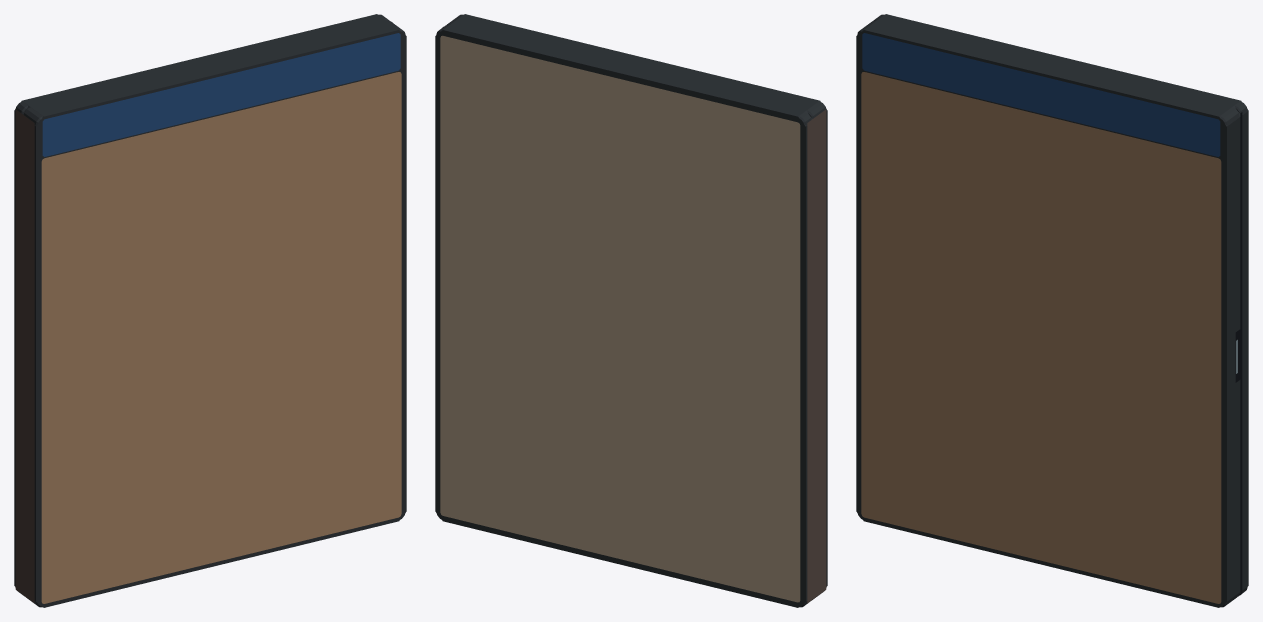
The model's file is game.glb.
3 renders of one model, left to right at view 1: azimuth 30°, elevation 25°; view 2: azimuth 150°, elevation 25°; view 3: azimuth 330°, elevation 25°, orthographic.
Visible parts, largest first — view 1: Detail_game, Shelf_game; view 2: Detail_game, Shelf_game; view 3: Shelf_game, Detail_game.
Part boxes in pixels (left/top/right/bottom): Detail_game: left=15, top=14, right=405, bottom=607; Shelf_game: left=14, top=14, right=406, bottom=607; Detail_game: left=436, top=14, right=826, bottom=607; Shelf_game: left=435, top=14, right=827, bottom=607; Shelf_game: left=856, top=14, right=1248, bottom=607; Detail_game: left=857, top=14, right=1247, bottom=607.
Size of what is drawn, in the model's own units: 0.135 by 0.1709 by 0.014.
